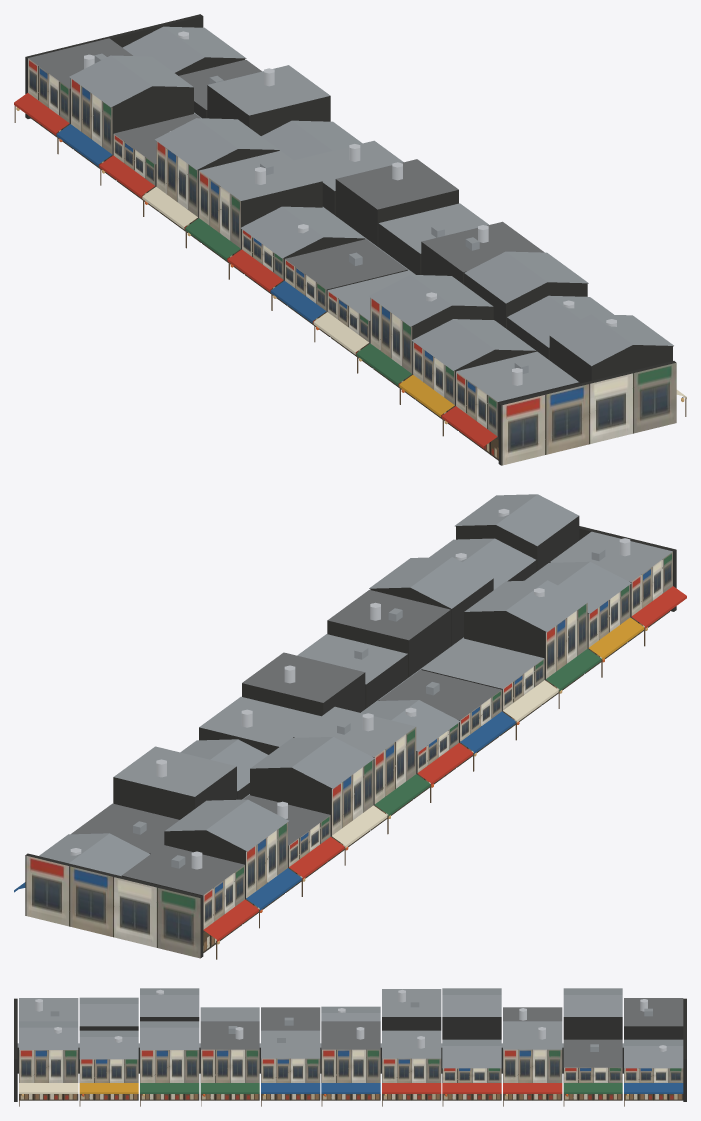
Rendered from tsukiji_outer_market.glb.
3 renders of one model, top to bottom at view 1: azimuth 30°, elevation 25°; view 2: azimuth 150°, elevation 25°; view 3: azimuth 270°, elevation 25°, orthographic. The views are drawn at different scales.
Visible parts, largest first — view 1: tsukiji_outer_market; view 2: tsukiji_outer_market; view 3: tsukiji_outer_market.
Part boxes in pixels (x1,y1,x2,y2): tsukiji_outer_market: (14,14,686,465); tsukiji_outer_market: (14,494,686,959); tsukiji_outer_market: (14,988,686,1106).
Size of the model in its own units: 26.43 by 10.8 by 107.
Materials: 2 (2 with a texture image).
